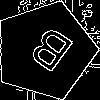B: (20, 25, 76, 82)
